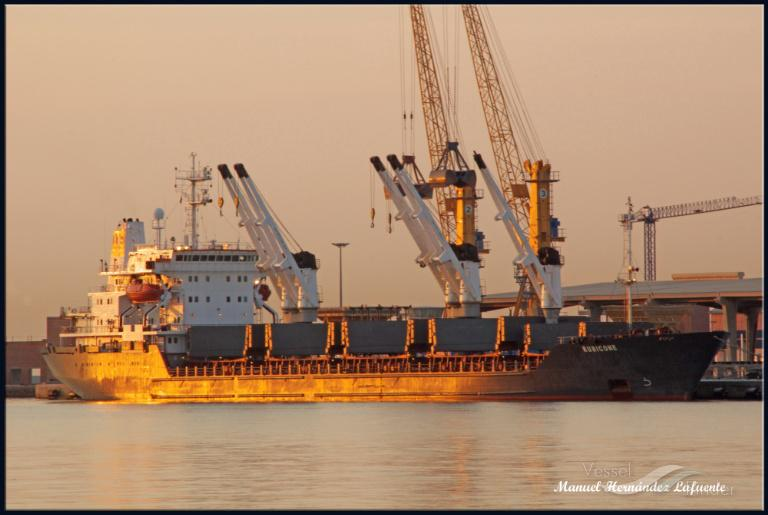OCR: (580, 342, 620, 354)
